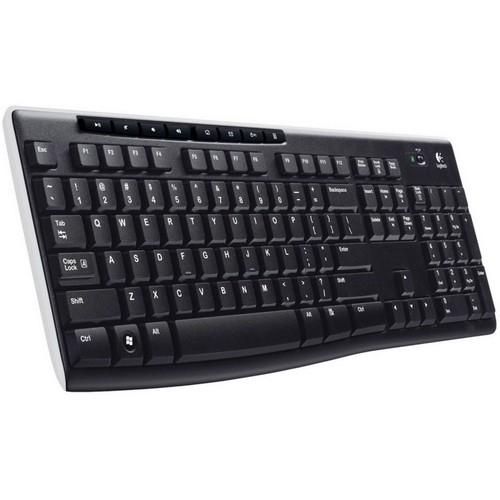Teclado: (2, 100, 500, 395)
